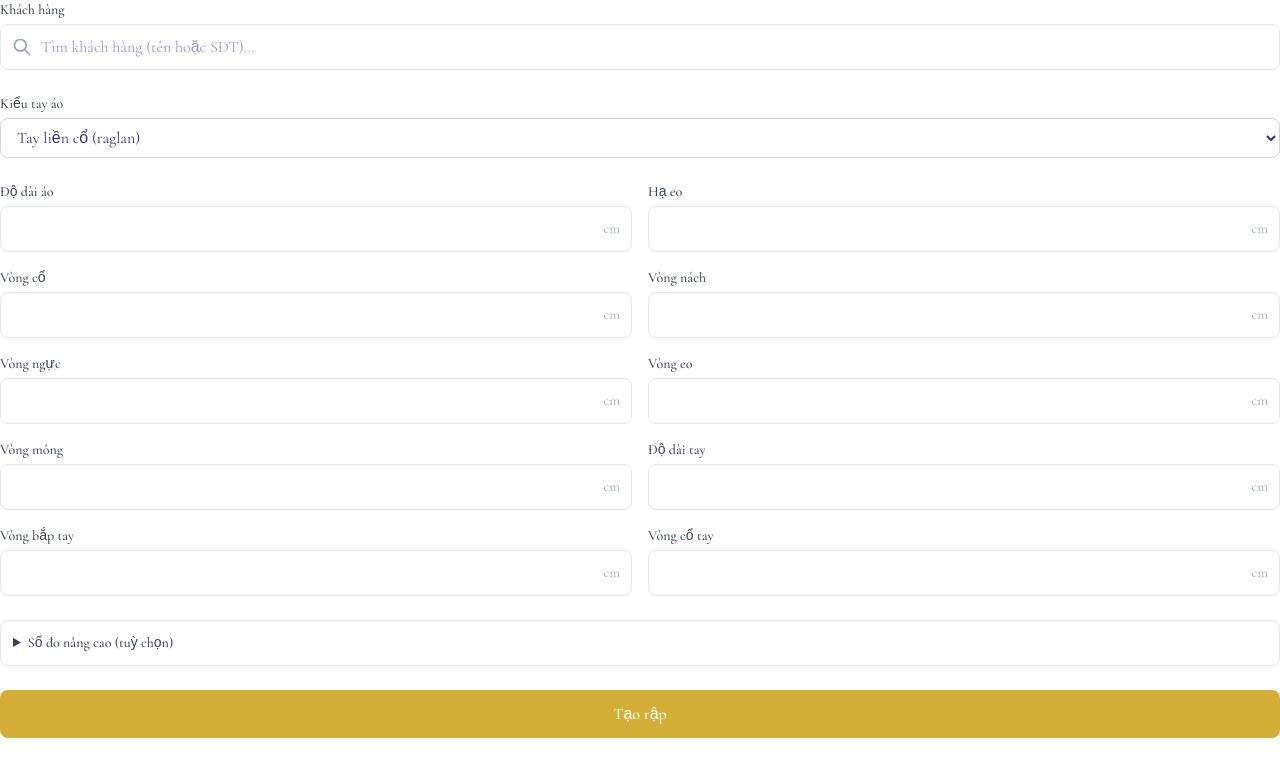
Test: MeasurementForm › shows warning when customer has no measurements
In the field with placeholder "Tìm khách hàng (tên hoặc SĐT)...": (640, 47) [0,24,1279,70], type "Nguyễn"
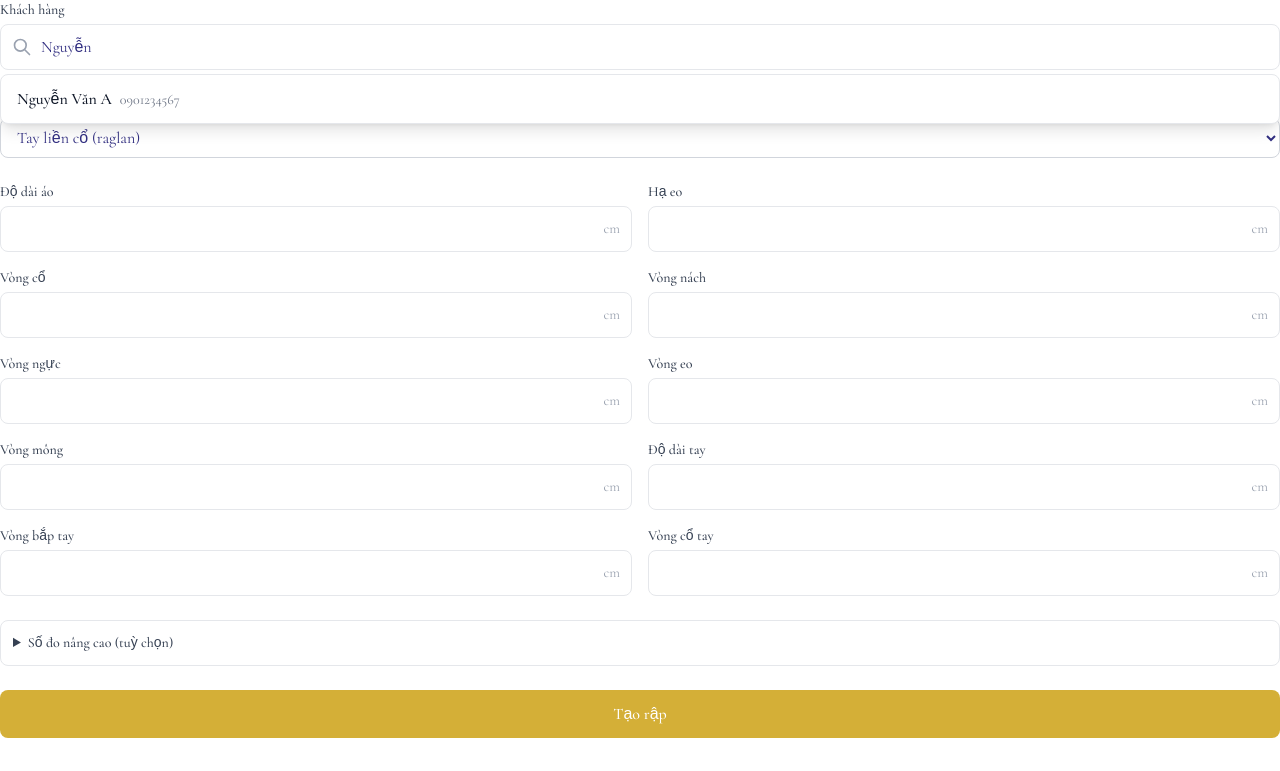
Click the option "Nguyễn Văn A0901234567": (64, 99) [1,75,1279,123]
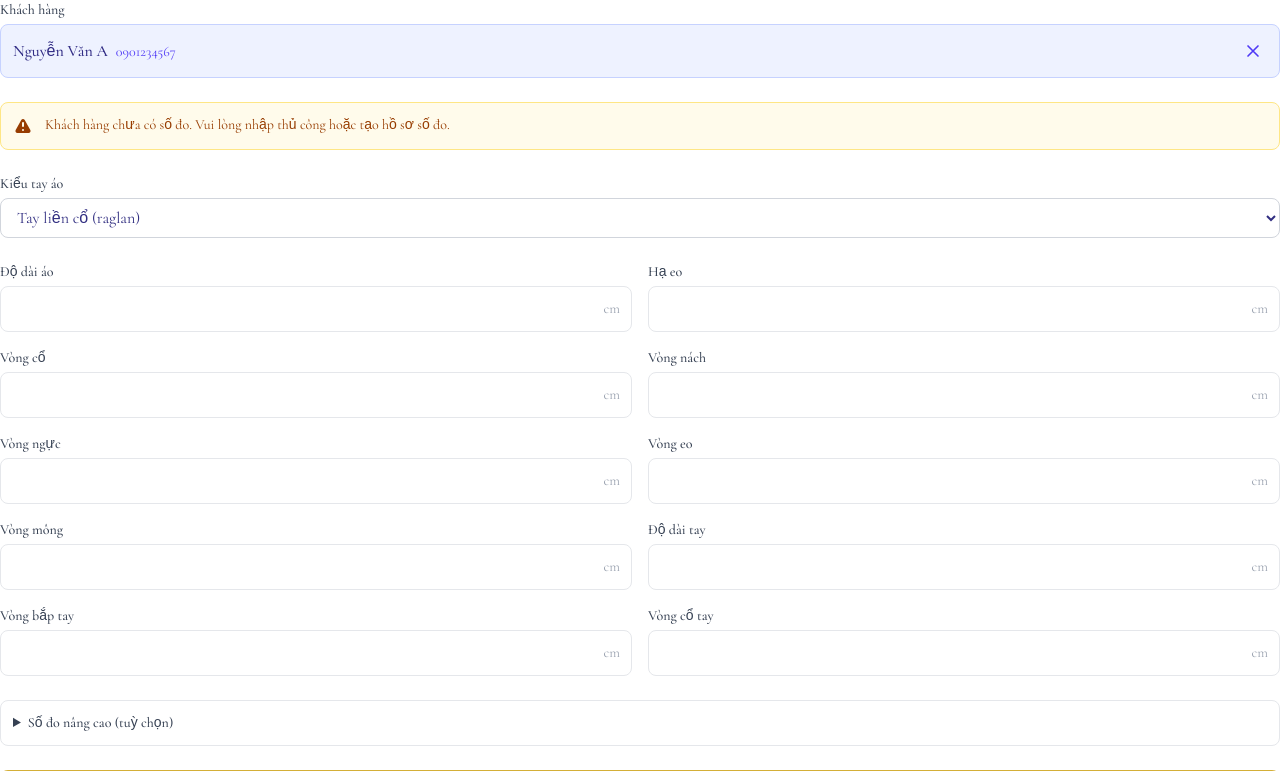
Expected: the text "Khách hàng chưa có số đo. Vui lòng nhập thủ công hoặc tạo hồ sơ số đo." is shown, [45,115,450,135]
